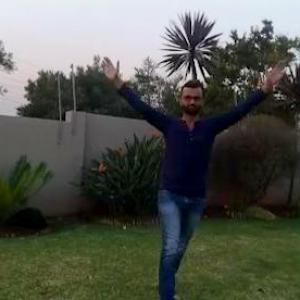takeoff: (99, 54, 285, 299)
